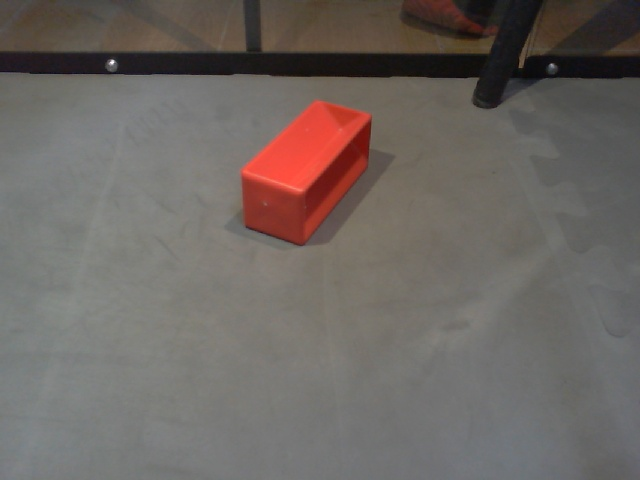RedSample: (238, 97, 374, 249)
